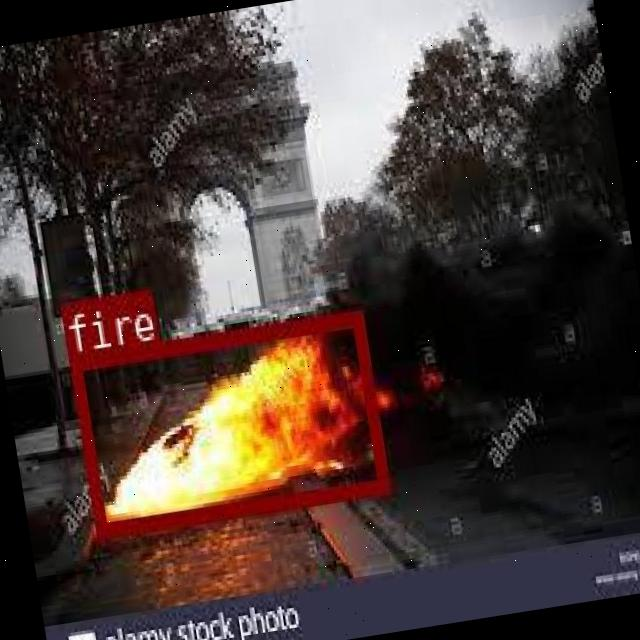fire: (66, 307, 388, 538)
